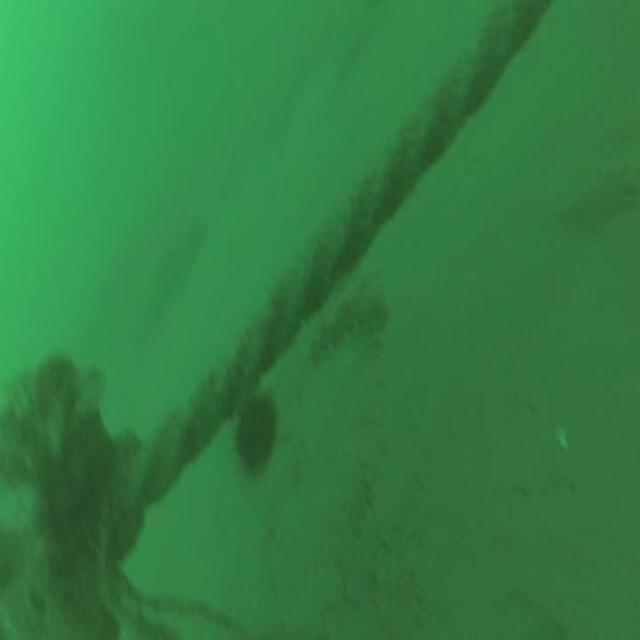echinus: (230, 380, 280, 476)
holothurian: (297, 280, 389, 368)
